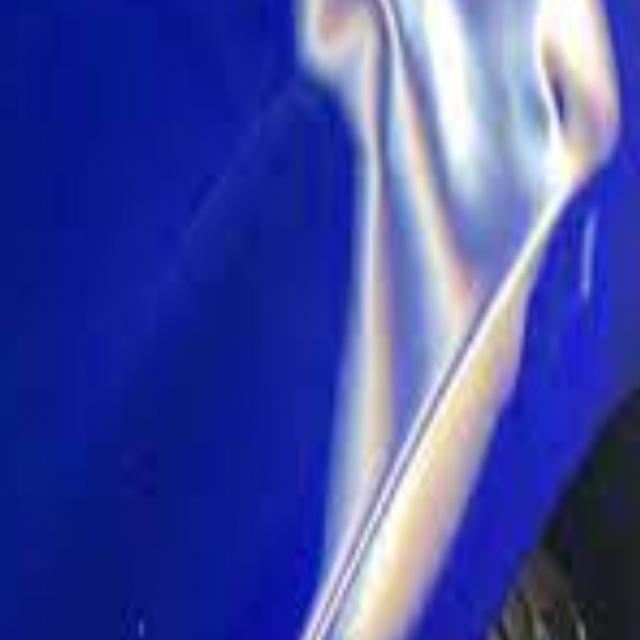dents: (524, 17, 626, 184)
